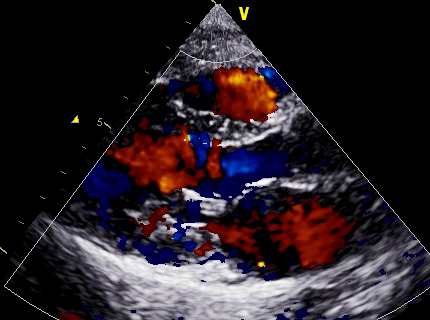AR: (124, 130, 230, 203)
